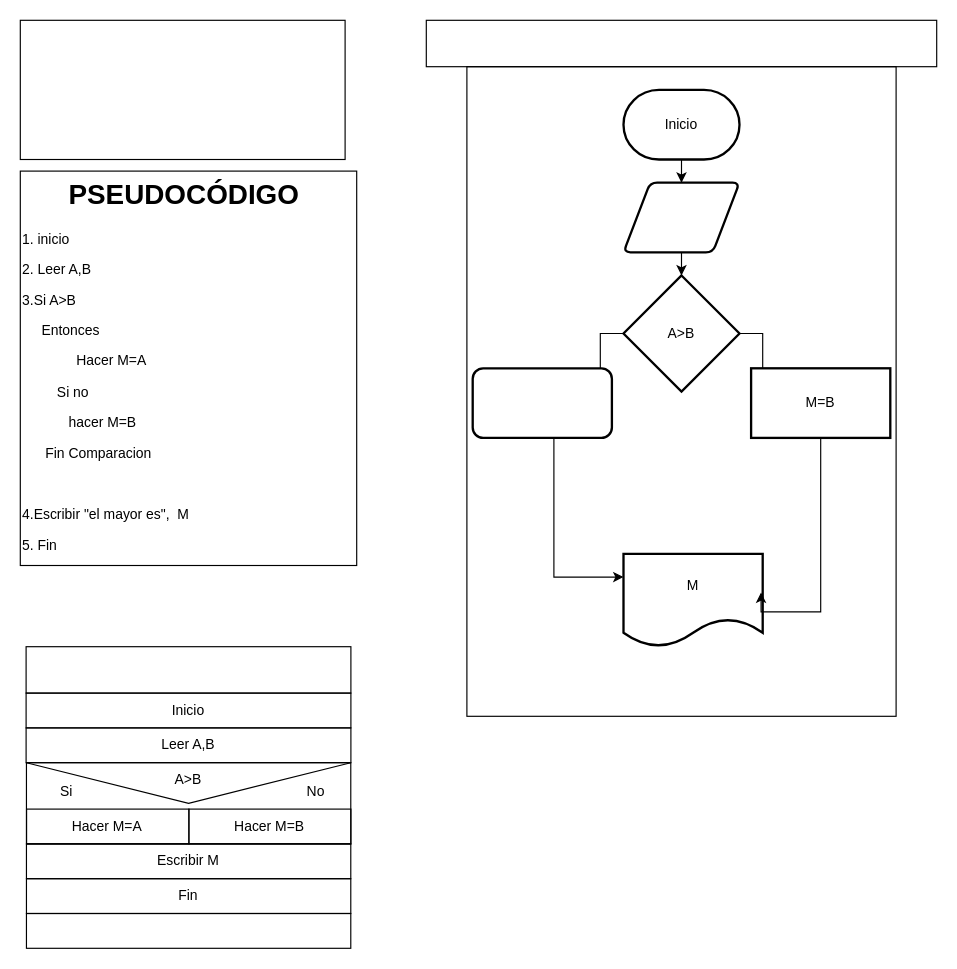
This 957x969 diagram has some shape labels left out. Each missing label, with the centre of its shape:
"A,B" belongs at pixel 681 217.
"DIAGRAMA DE FLUJO" belongs at pixel 681 43.
"DIAGRAMA N/S ." belongs at pixel 188 669.
"M=A" belongs at pixel 541 402.
"VARIABLES 1.A,B Numeros Solicitados/Real 2.M Comparar Real 3. 4. 5." belongs at pixel 182 89.
